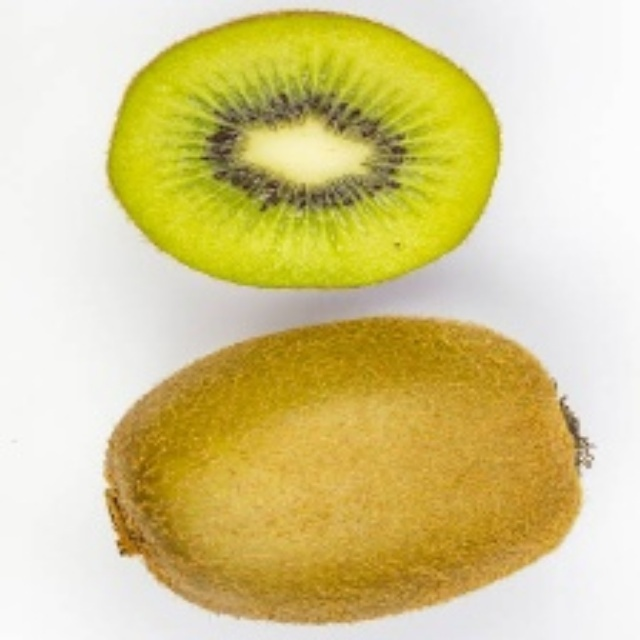kiwi: (101, 317, 597, 622), (101, 9, 493, 286)
